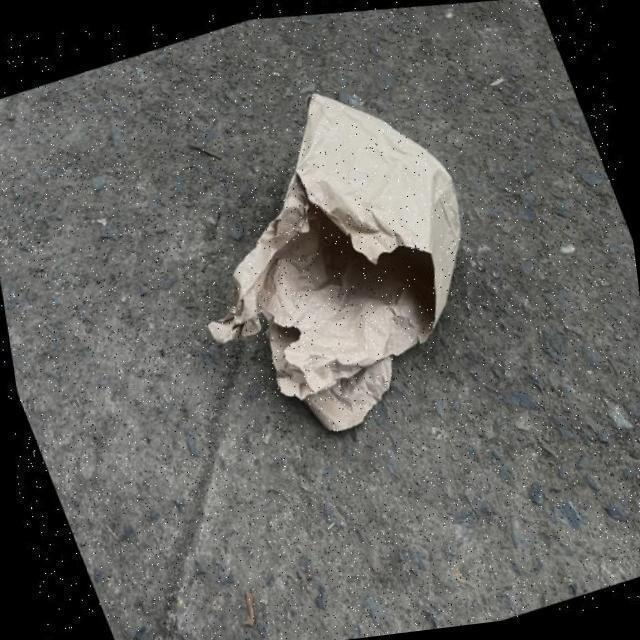Paper_Bag: (130, 45, 530, 473)
